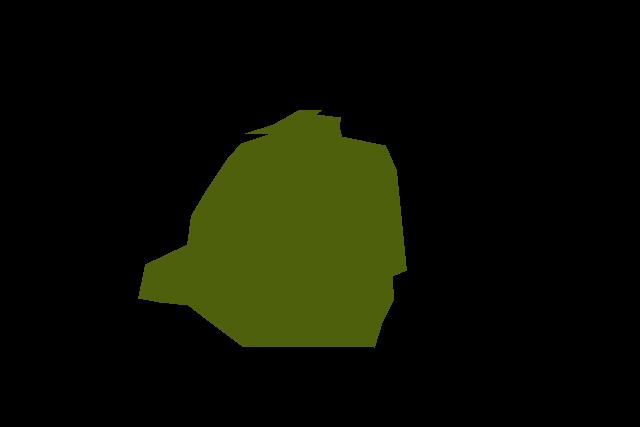Train: (138, 110, 407, 347)
